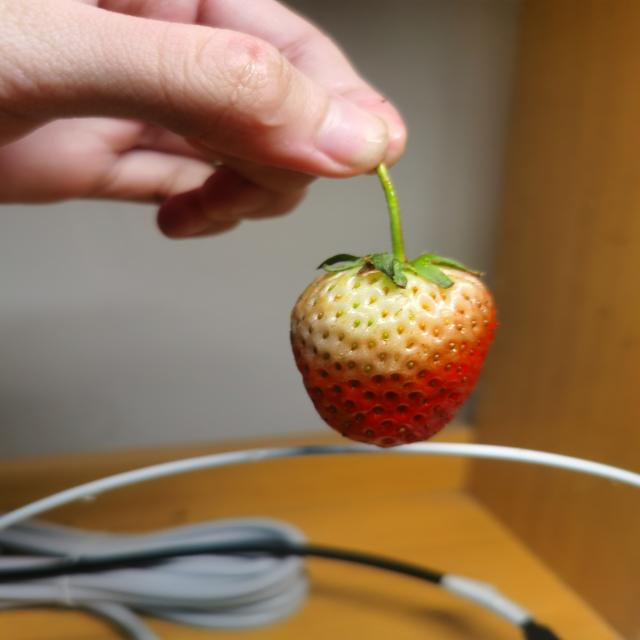stem: (382, 184, 408, 266)
strawberry: (290, 260, 494, 448)
